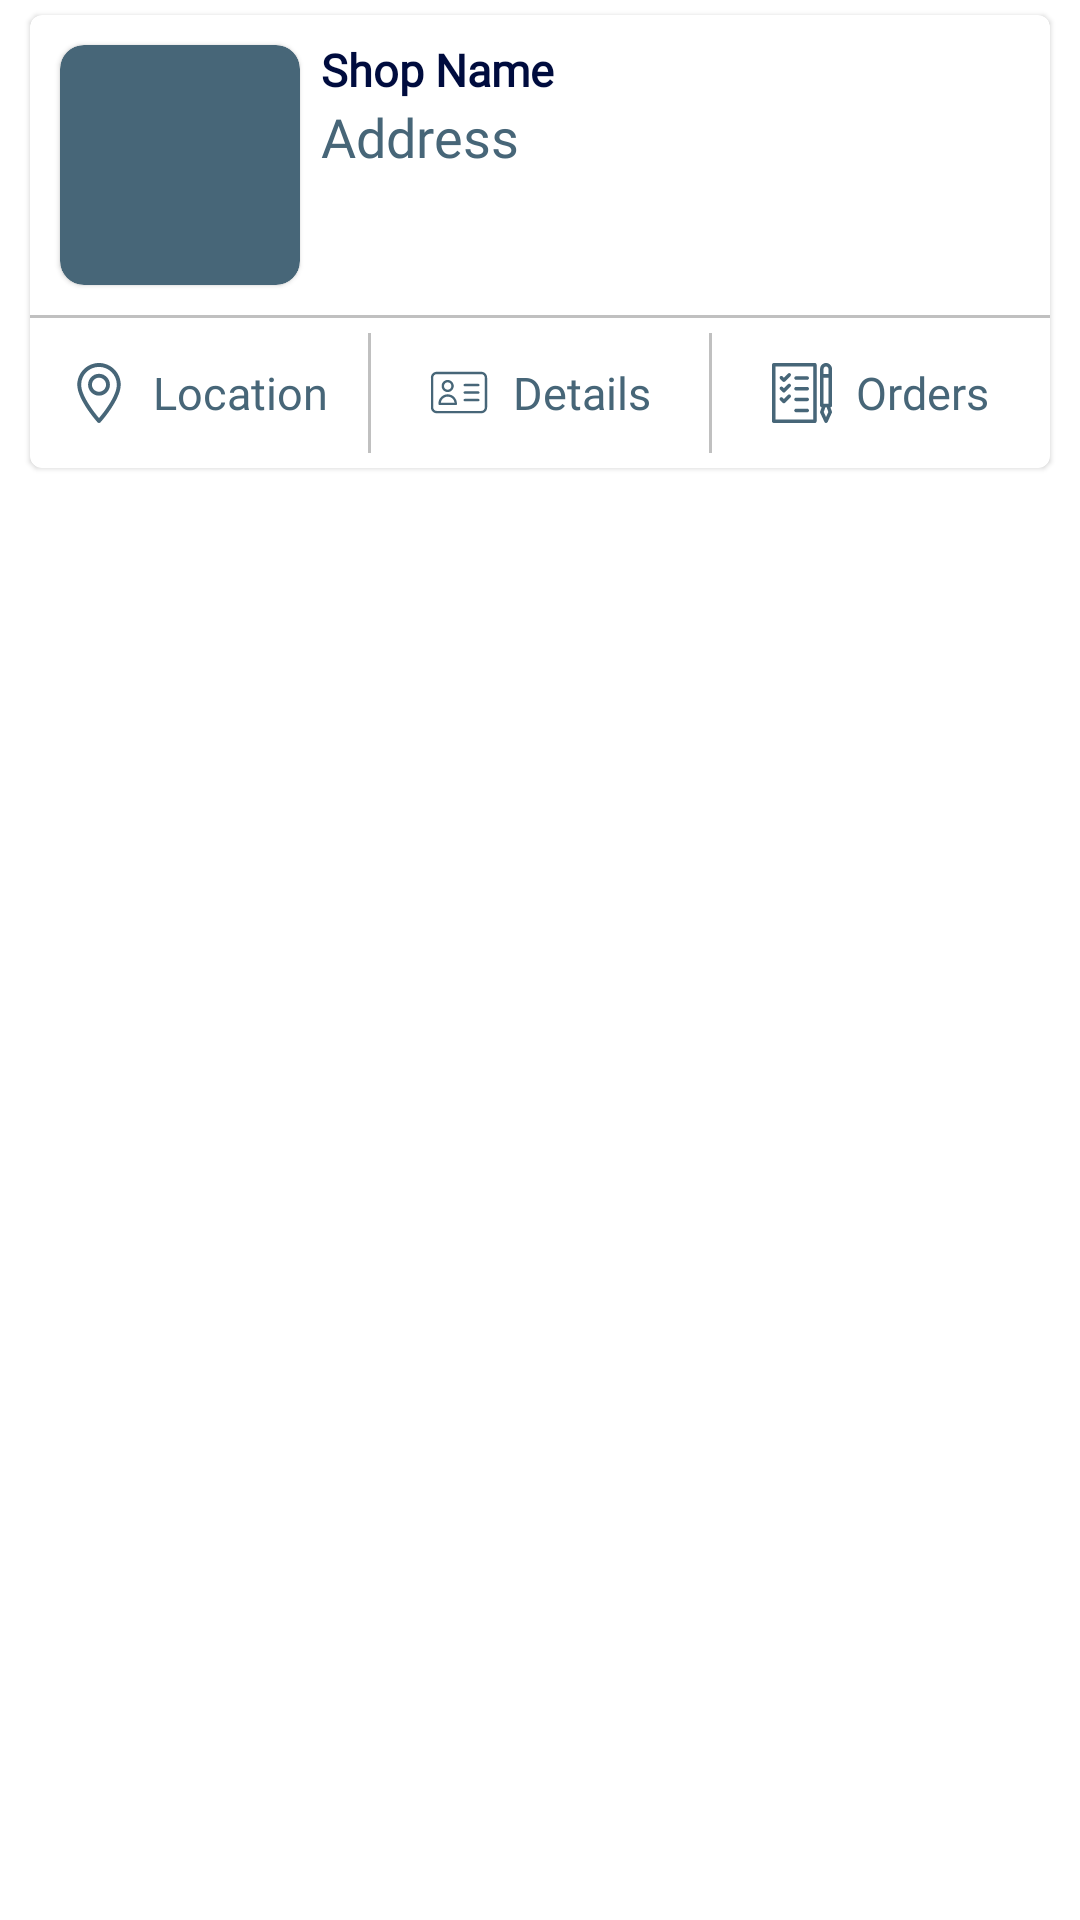

Where to tap for icons on this 1080px×1920px app screen, as (x,y):
identification: (459,392)
maps and flags: (99,393)
